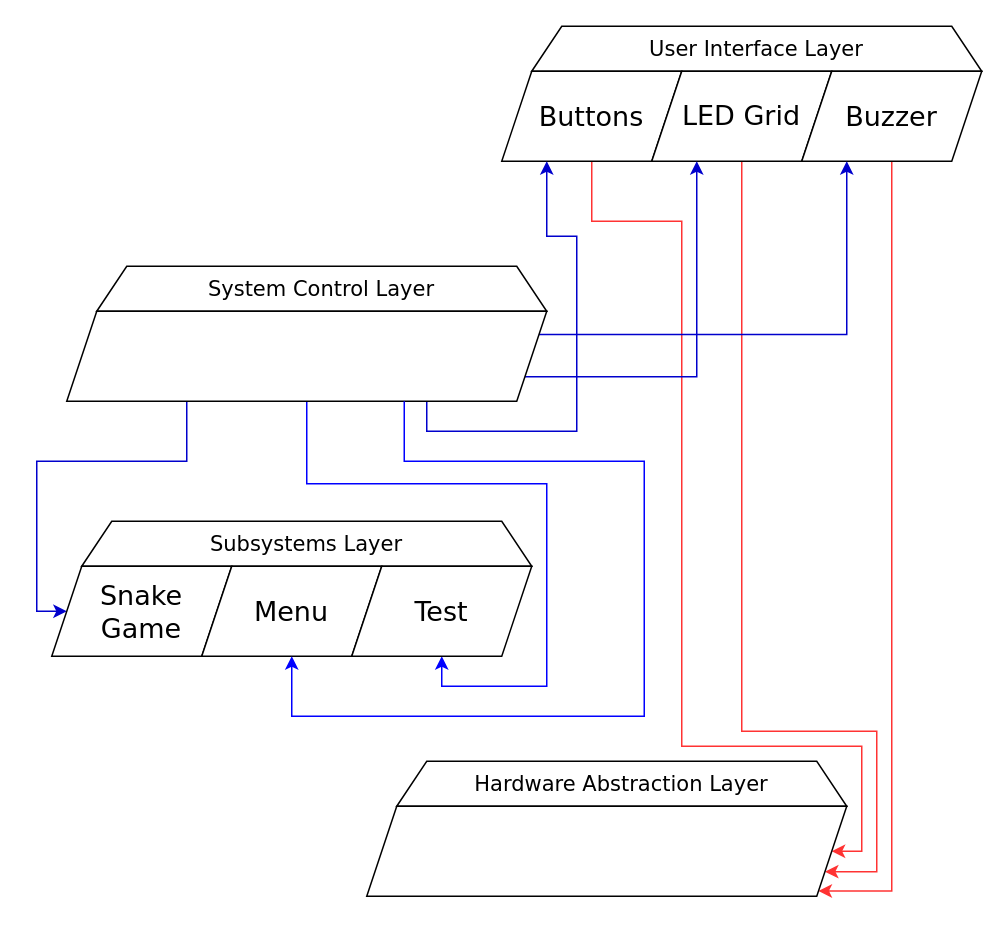
Some shapes in this 1008 by 930 pixel diagram are drawn without their labels. The centre of each missing label's shape, as x and y in pixels:
Finite State Machine: [306,355]
Hardware I/O: [606,850]
